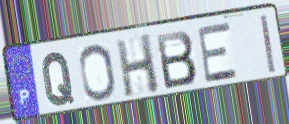B: (154, 28, 199, 91)
E: (196, 20, 241, 86)
H: (113, 31, 162, 100)
I: (258, 13, 277, 76)
O: (77, 42, 119, 102)
Q: (40, 50, 77, 108)
